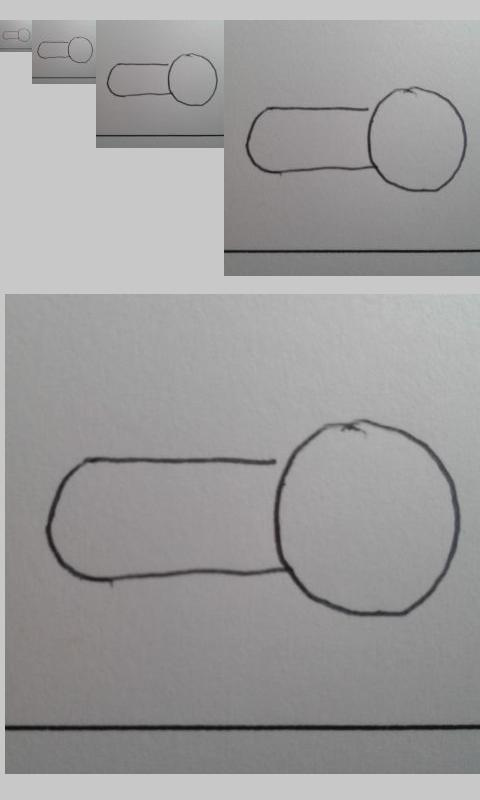switch: (46, 418, 464, 619), (244, 86, 468, 194), (107, 53, 219, 106), (37, 36, 94, 64), (2, 27, 31, 43)
